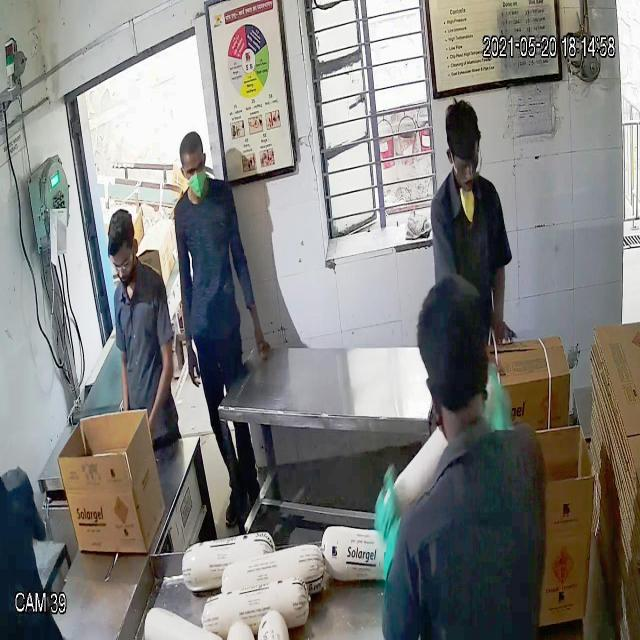glasses: (105, 250, 137, 276)
no-glass: (180, 154, 208, 178)
